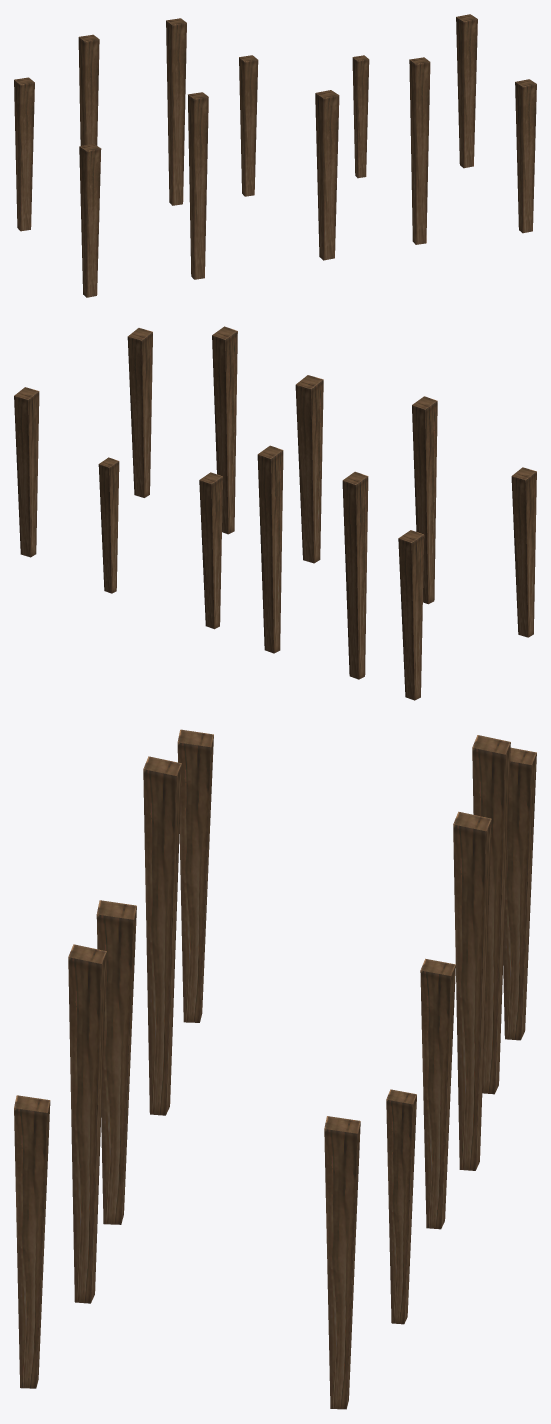
The model's file is PhoenixForest_Abyss_bridge02.FBX.
3 renders of one model, top to bottom at view 1: azimuth 30°, elevation 25°; view 2: azimuth 150°, elevation 25°; view 3: azimuth 270°, elevation 25°, orthographic. The views are drawn at different scales.
Visible parts, largest first — view 1: Object015; view 2: Object015; view 3: Object015.
Boxes of the visible parts, x1,y1,x2,y2 form: Object015: [14, 14, 536, 297]; Object015: [14, 326, 536, 700]; Object015: [14, 729, 536, 1409].
Bounding box in the file's own units: 4191 × 1697 × 2313.
Materials: 1 (1 with a texture image).
